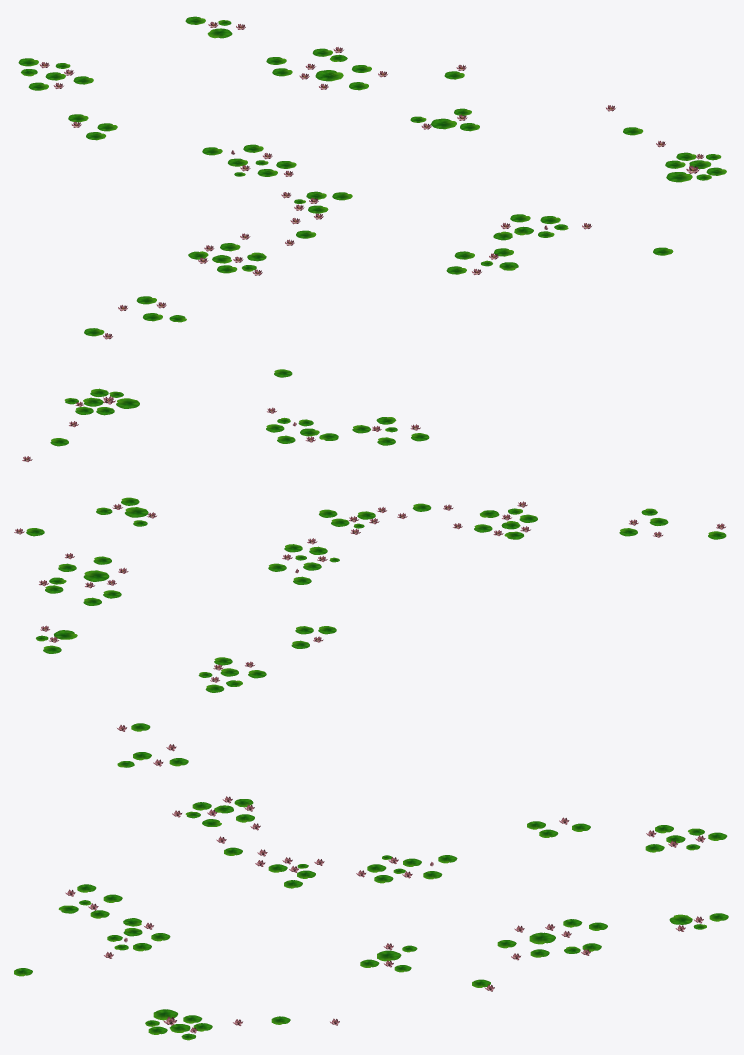
Rendered from hehua.FBX.
3 renders of one model, top to bottom at view 1: azimuth 30°, elevation 25°; view 2: azimuth 150°, elevation 25°; view 3: azimuth 270°, elevation 25°, orthographic. The views are drawn at different scales.
Parts seen in each view (by area): view 1: hehua; view 2: hehua; view 3: hehua.
Boxes of the visible parts, box(x1,y1,x2,y2) form: hehua: box(18, 16, 726, 339); hehua: box(14, 369, 726, 692); hehua: box(14, 723, 728, 1040).
Size of the model in its own units: 7422 by 68.67 by 7069.
